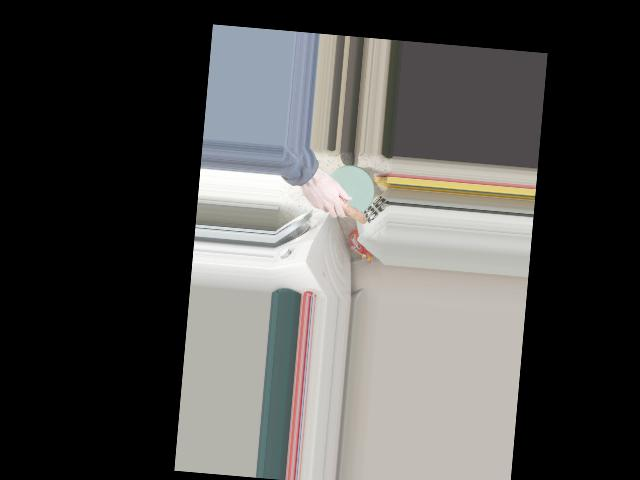sweet_potato: (314, 181, 368, 224)
